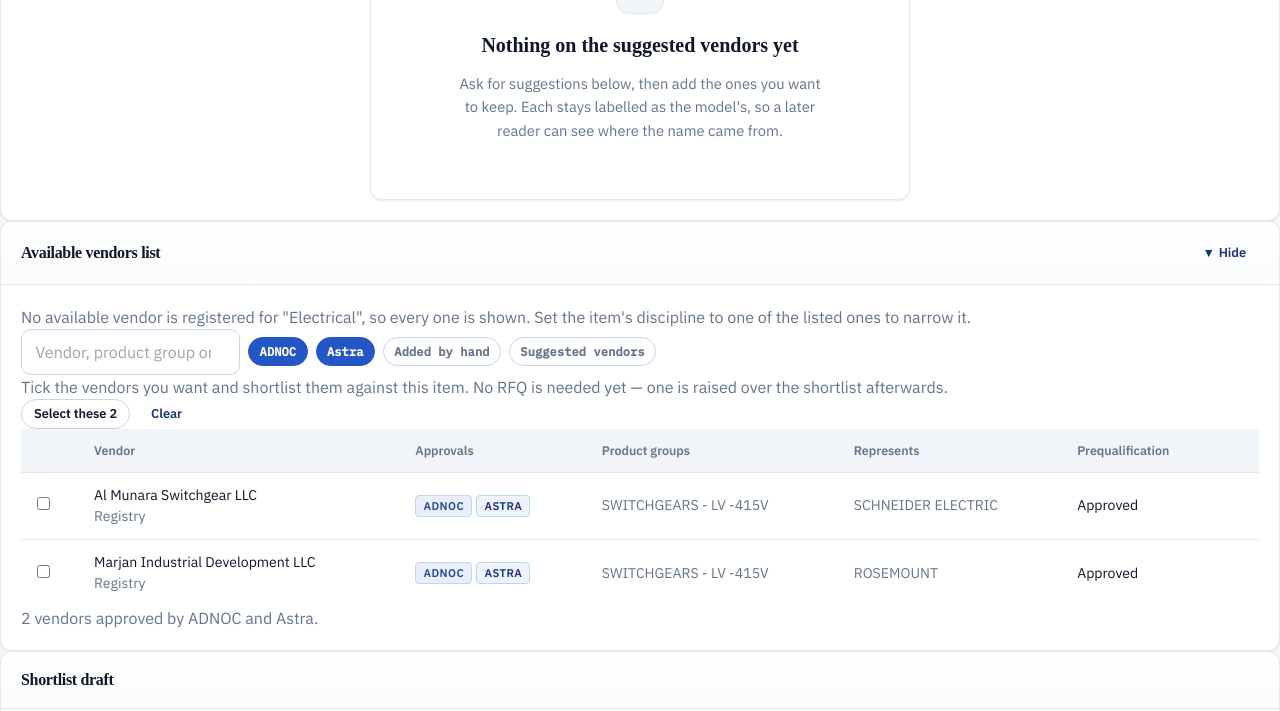
ItemDetail › the available vendor list › filters on vendor, product group or manufacturer
This screenshot has width=1280, height=711.
(page scrolled)
Expected: the text "Al Munara Switchgear LLC" is shown, [94,486,257,504]
Type "rosemount" into the search field named "Search vendors" at (131, 352), box [21,329,240,375]
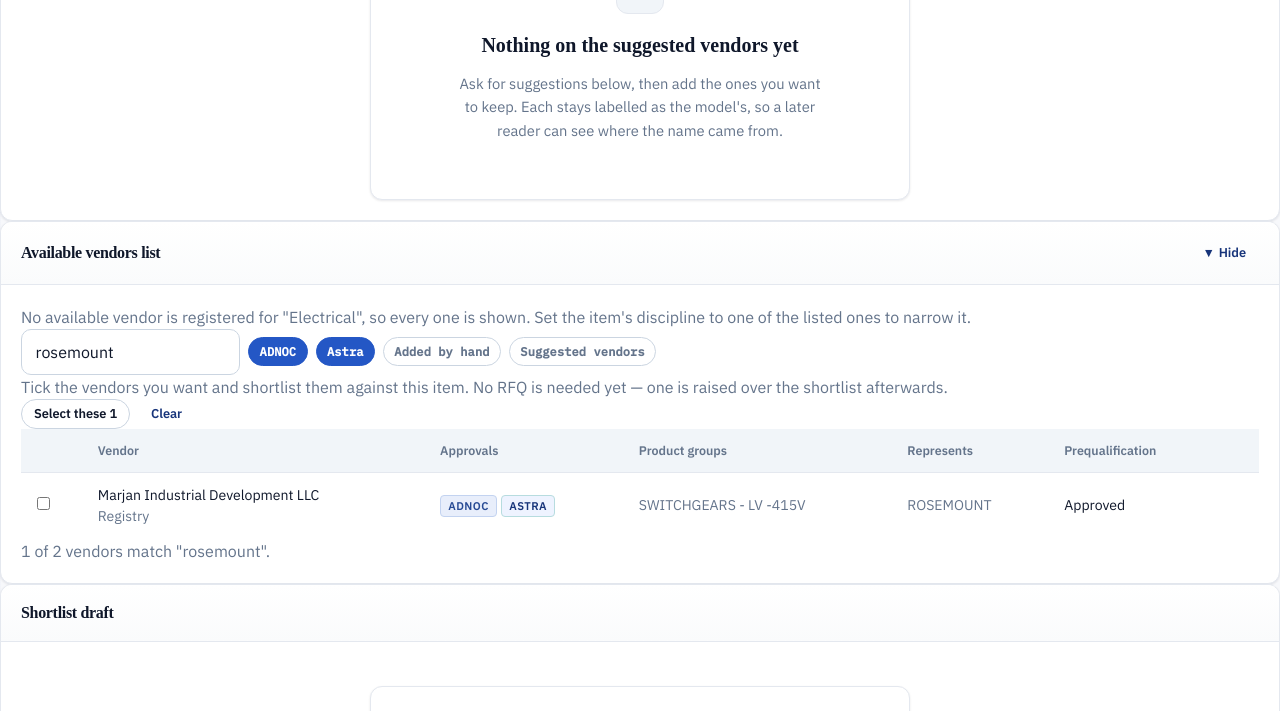
Expected: the text "Marjan Industrial Development LLC" is shown, [98,486,319,504]
Now the text "Al Munara Switchgear LLC" is gone
Now the text "1 of 2 vendors match \"rosemount\"." is shown, box [21,541,270,561]
